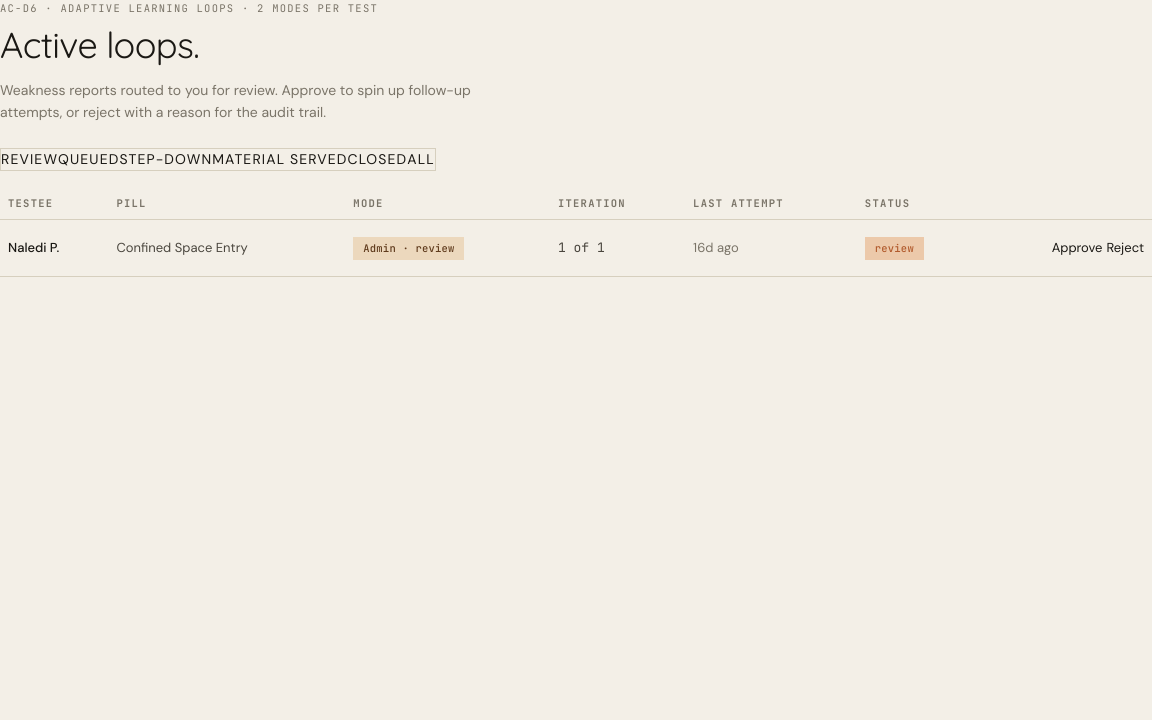
loop queue — approve + reject › rejects with a reason and closes the modal
Expected: the table with test id "loop-table" is shown, [0, 187, 1151, 278]
Click the button "Reject" at [1125, 248], box [1106, 230, 1144, 266]
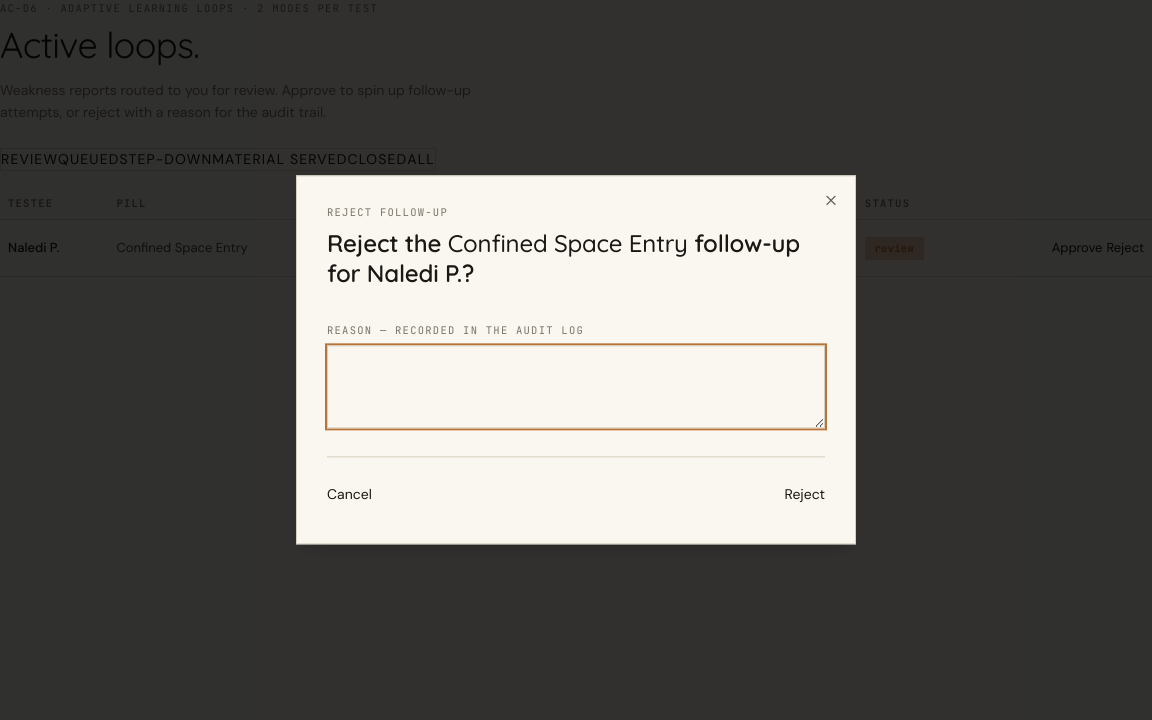
Type "Retest in two weeks instead — threshold off for this testee." into the text box with test id "loop-reject-reason" at [576, 386], box [327, 345, 825, 428]
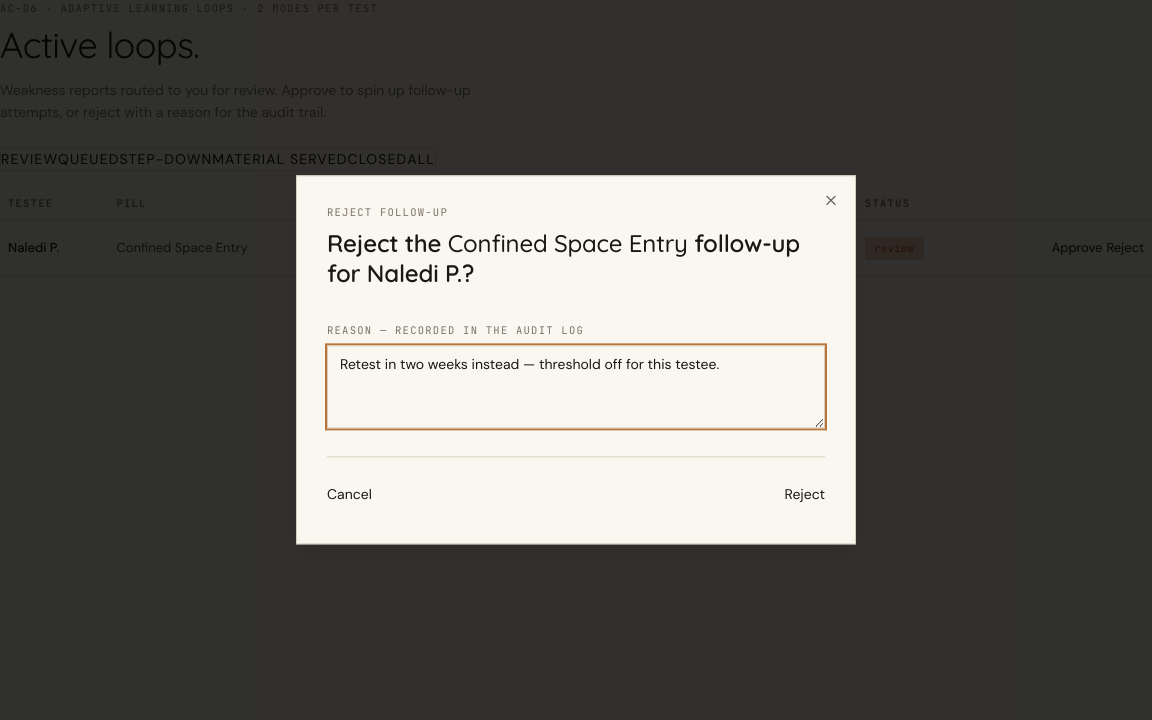
Click the button with test id "loop-reject-confirm" at [805, 496], box [784, 476, 825, 516]
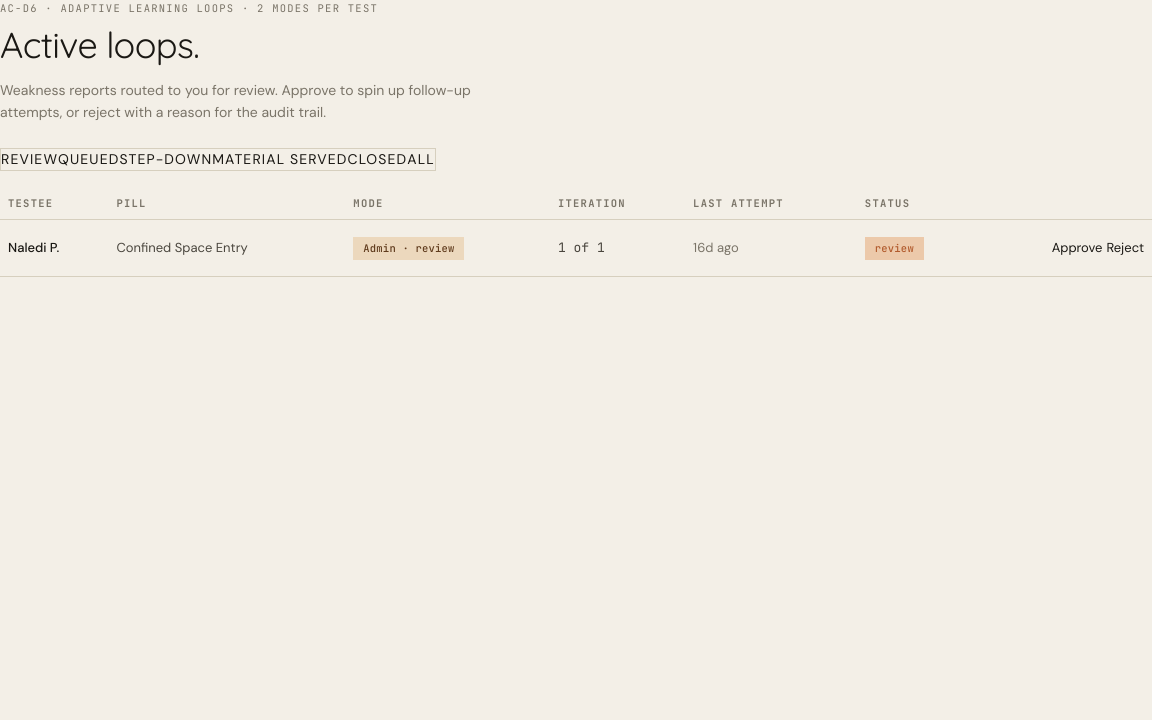
Expected: the form with test id "loop-reject-form" is gone
